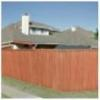chimneys: (20, 13, 30, 35)
